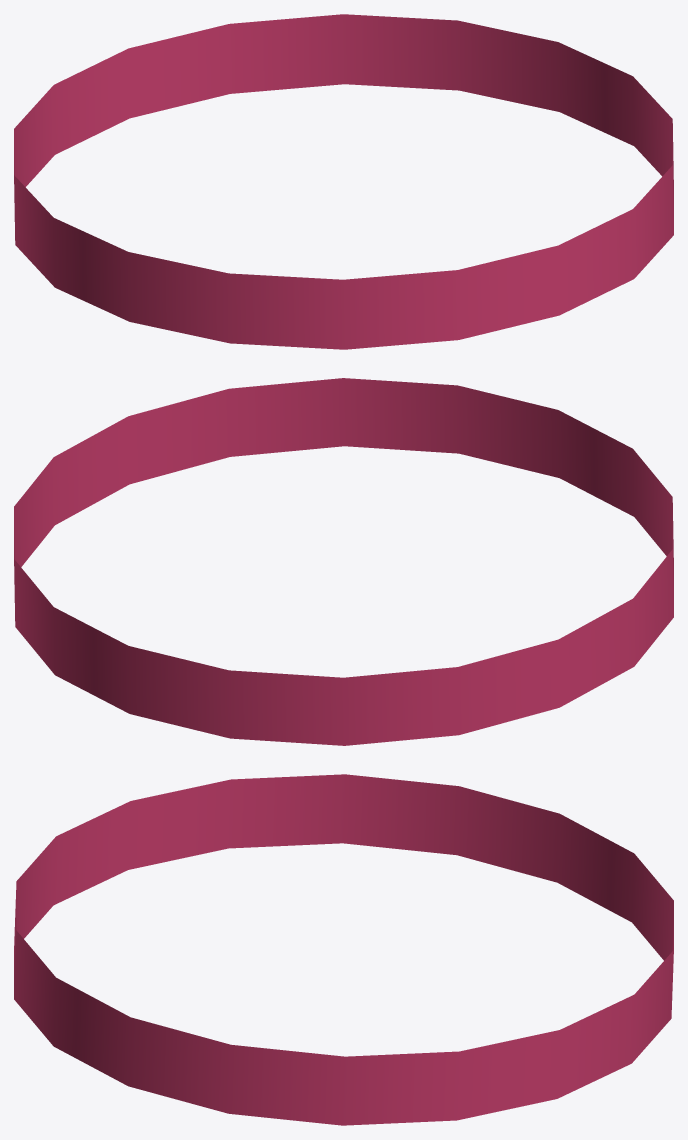
File: headband_f.glb
3 views of the same model, one above another, from view 1: azimuth 30°, elevation 25°; view 2: azimuth 150°, elevation 25°; view 3: azimuth 270°, elevation 25° (orthographic).
Visible parts, largest first — view 1: headband_f; view 2: headband_f; view 3: headband_f.
Part boxes in pixels (bbox=[...]): headband_f: bbox=[14, 14, 673, 349]; headband_f: bbox=[14, 378, 673, 745]; headband_f: bbox=[14, 774, 673, 1125].
Size of the model in its own units: 0.1991 by 0.0291 by 0.1967.
